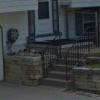stairs: (43, 51, 85, 92)
